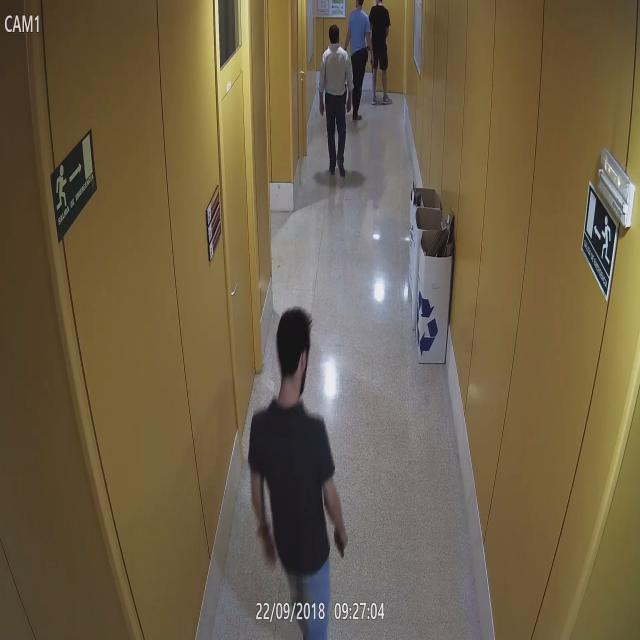Gun: (332, 520, 350, 558), (368, 54, 377, 76)
